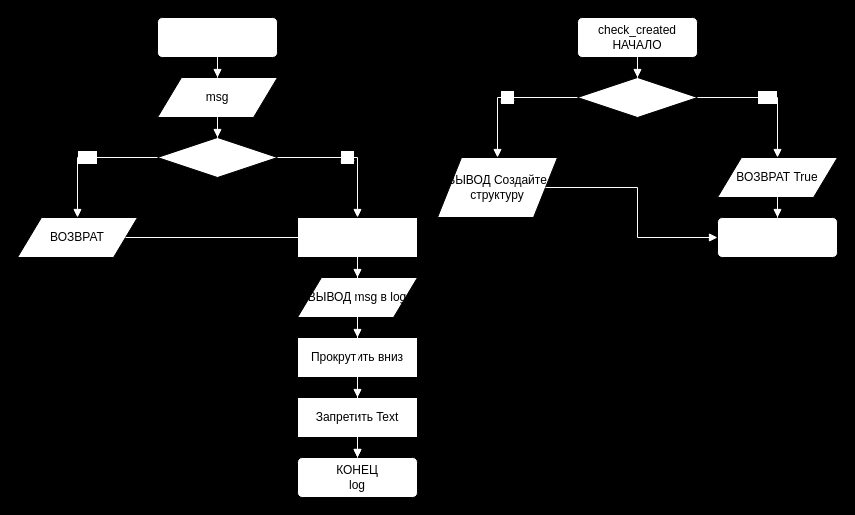
Some shapes in this 855 by 515 pixel diagram are drawn without their labels. Here are the shapes that lost their labels. From the top down, the centre of each, then its label:
At point (217, 37): "log НАЧАЛО".
At point (637, 97): "is_created = 0".
At point (217, 157): "Text доступен".
At point (357, 237): "Разрешить Text".
At point (777, 237): "КОНЕЦ check_created".
